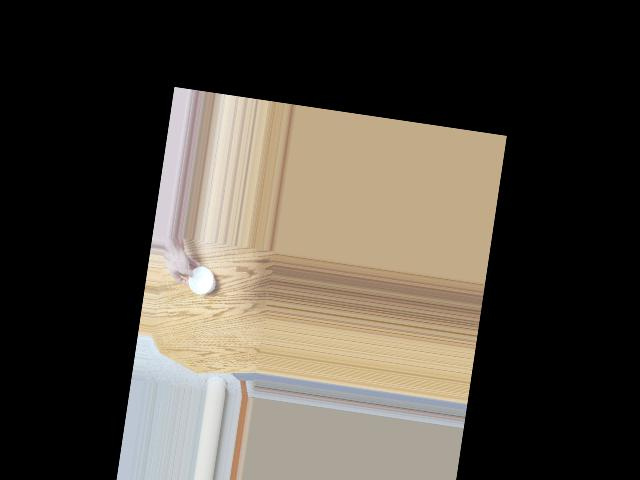cotage: (184, 264, 216, 300)
